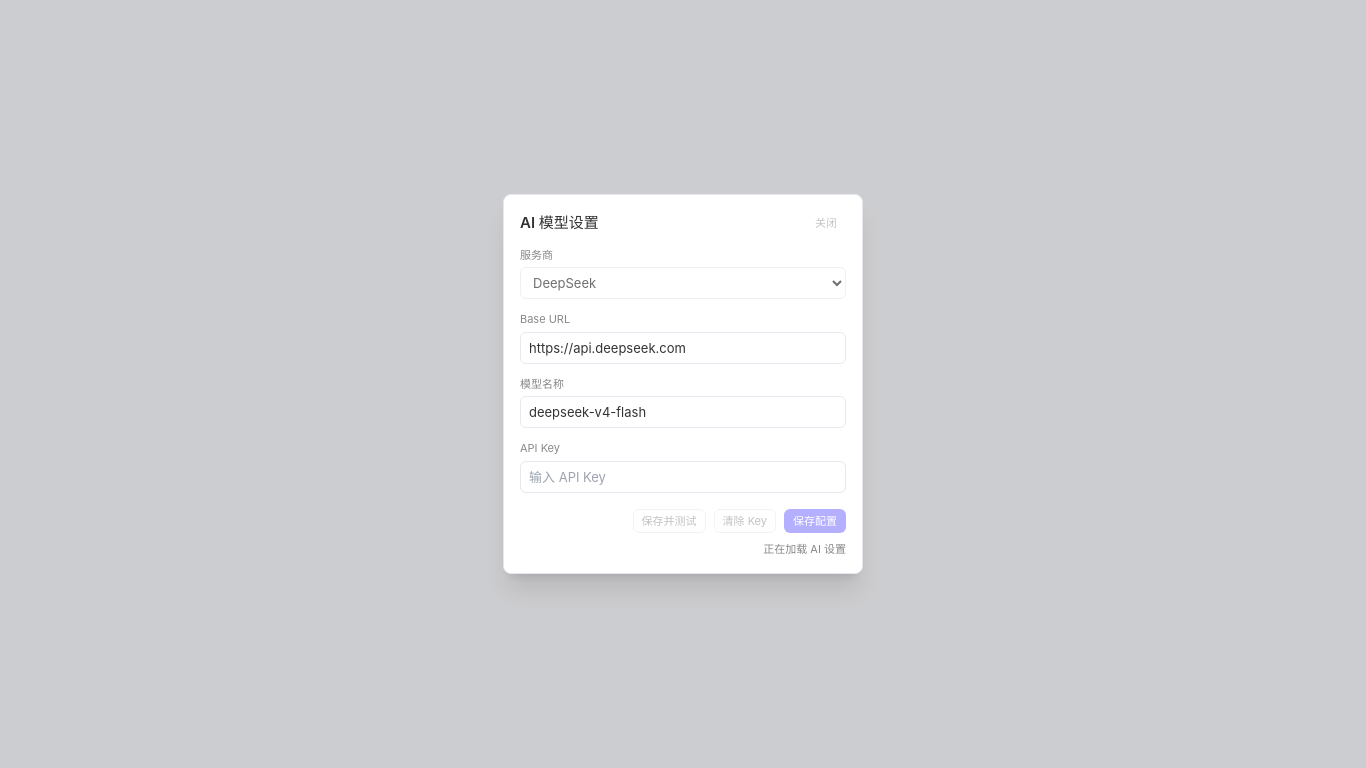
Test: AiSettingsDialog › applies reasonable defaults when provider changes
The image size is (1366, 768).
Expected: the field showing "https://api.deepseek.com" is shown, [520, 332, 846, 364]
Select "OpenAI" in the dropdown labelled "服务商" at (683,283), box [520, 267, 846, 299]
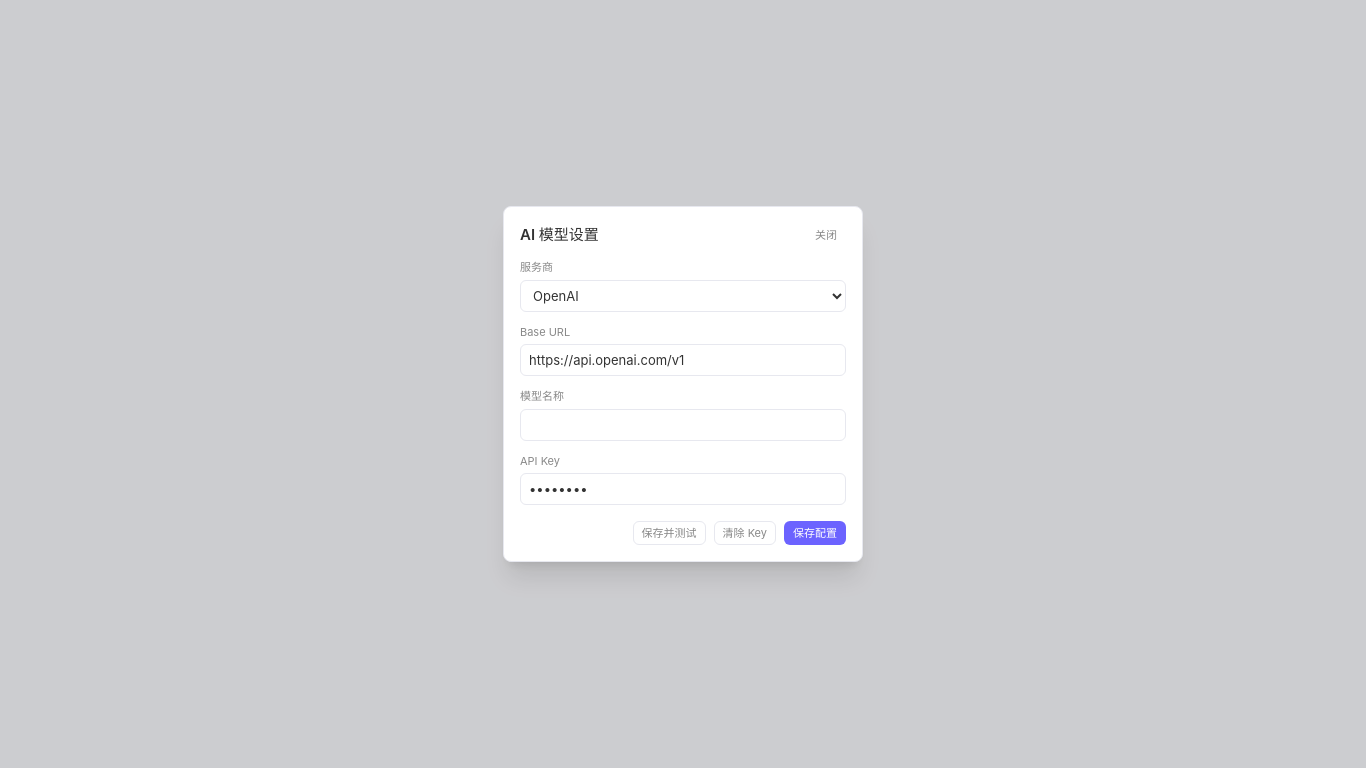
Expected: the field labelled "模型名称" is empty, [520, 408, 846, 440]
Result: the field labelled "Base URL" holds "https://api.openai.com/v1" at [520, 344, 846, 376]
Select "DeepSeek" in the dropdown labelled "服务商" at (683,296), box [520, 280, 846, 312]
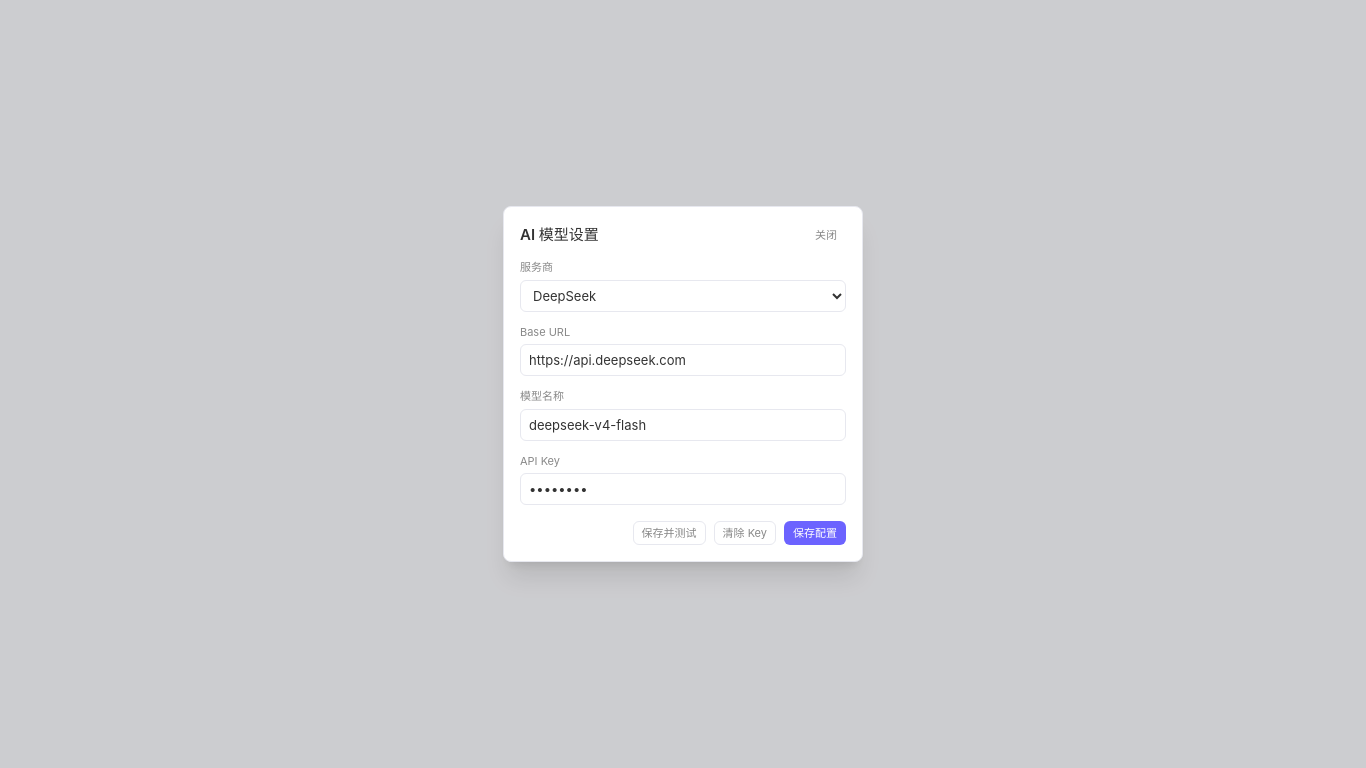
Result: the field labelled "Base URL" holds "https://api.deepseek.com" at [520, 344, 846, 376]
Result: the field labelled "模型名称" holds "deepseek-v4-flash" at [520, 408, 846, 440]
